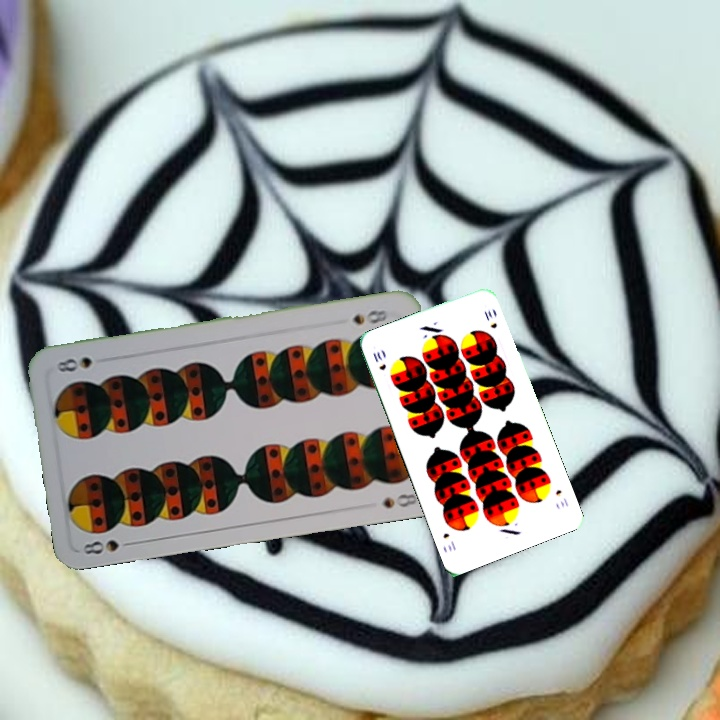S10: (369, 347, 389, 373), (551, 486, 571, 510)
S8: (79, 536, 138, 557), (349, 306, 389, 327)
